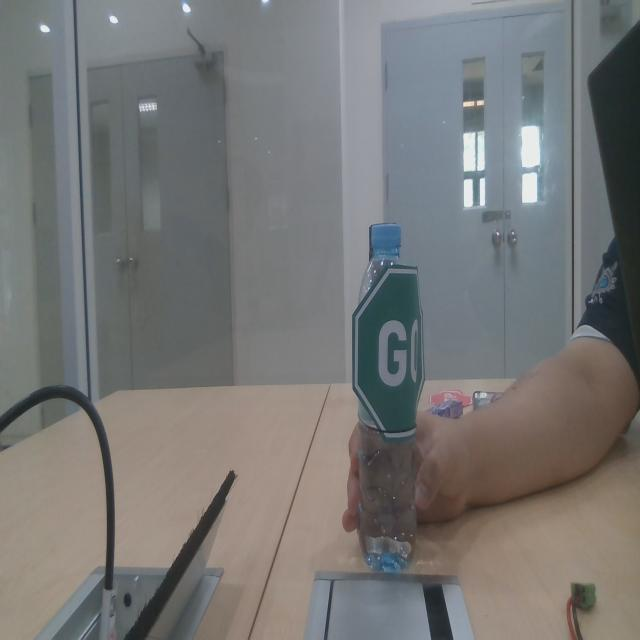Go: (347, 255, 433, 444)
